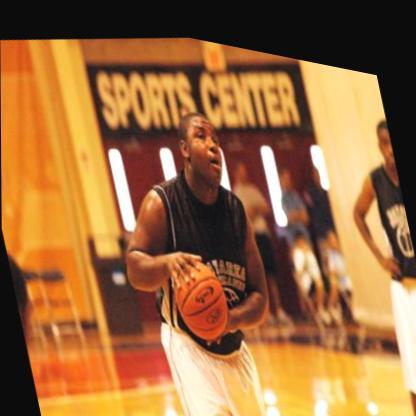basketball: (163, 239, 236, 347)
